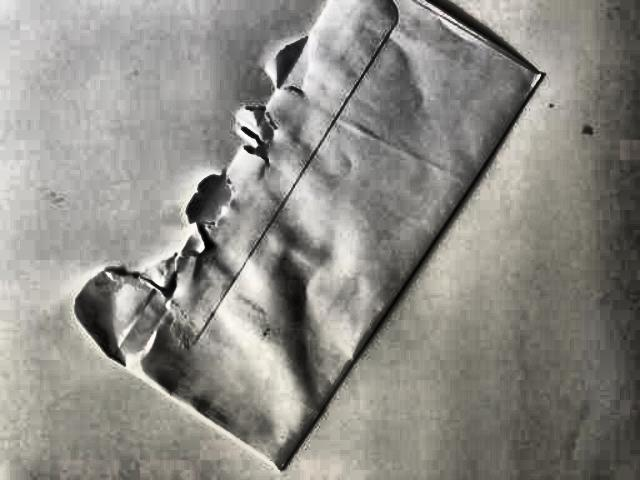Paper: (75, 0, 548, 473)
